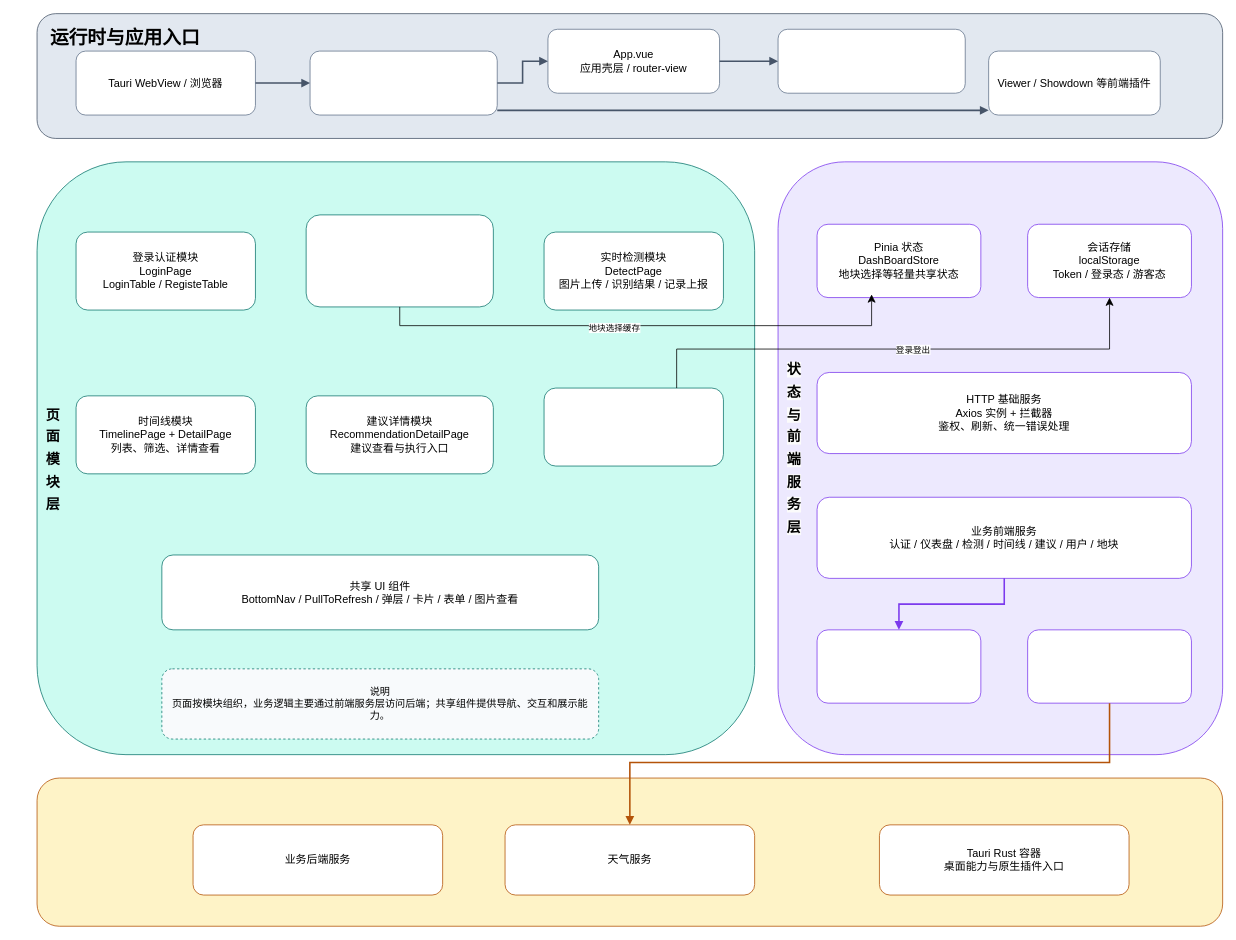
Some shapes in this 1236 by 940 pixel diagram are drawn without their labels. The box of each missing label's shape, as (x1, y1, x2, y2) in pixels:
src/main.ts 应用启动与插件注册: (309, 50, 497, 115)
Vue Router 路由分发与鉴权守卫: (777, 28, 965, 93)
个人中心模块 MePage 资料维护 / 密码修改 / 退出登录: (543, 387, 723, 466)
外部依赖与运行边界: (36, 777, 1223, 926)
天气组件服务 独立天气请求与本地缓存: (1027, 629, 1191, 703)
工具与配置 密码摘要 / 环境变量 / 公共工具: (816, 629, 981, 703)
首页总览模块 HomePage 总览卡片 / 地块切换 / 天气: (305, 214, 493, 307)
